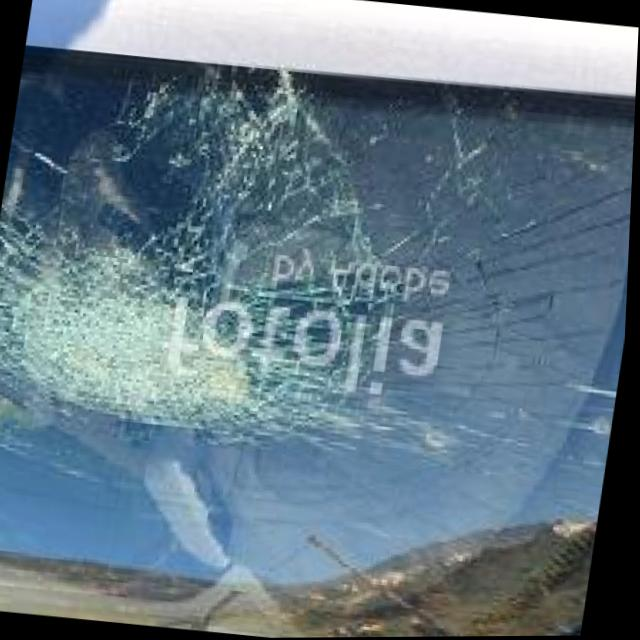Glass_Break: (0, 219, 336, 459)
